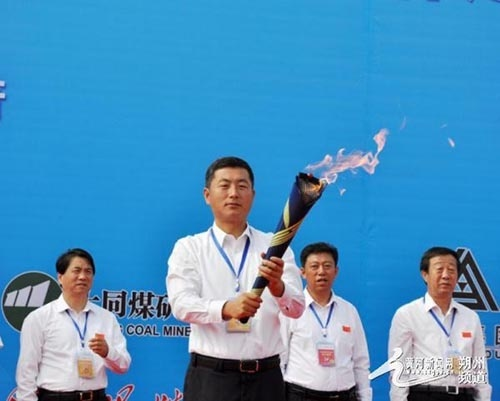fire: (304, 128, 388, 183)
